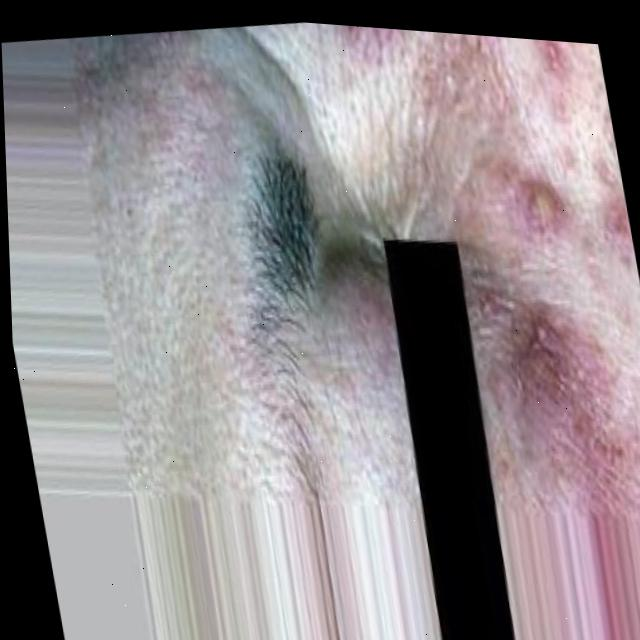Rosacea: (509, 311, 640, 525), (598, 193, 633, 245), (519, 192, 562, 232), (533, 39, 563, 76), (346, 26, 379, 47)
